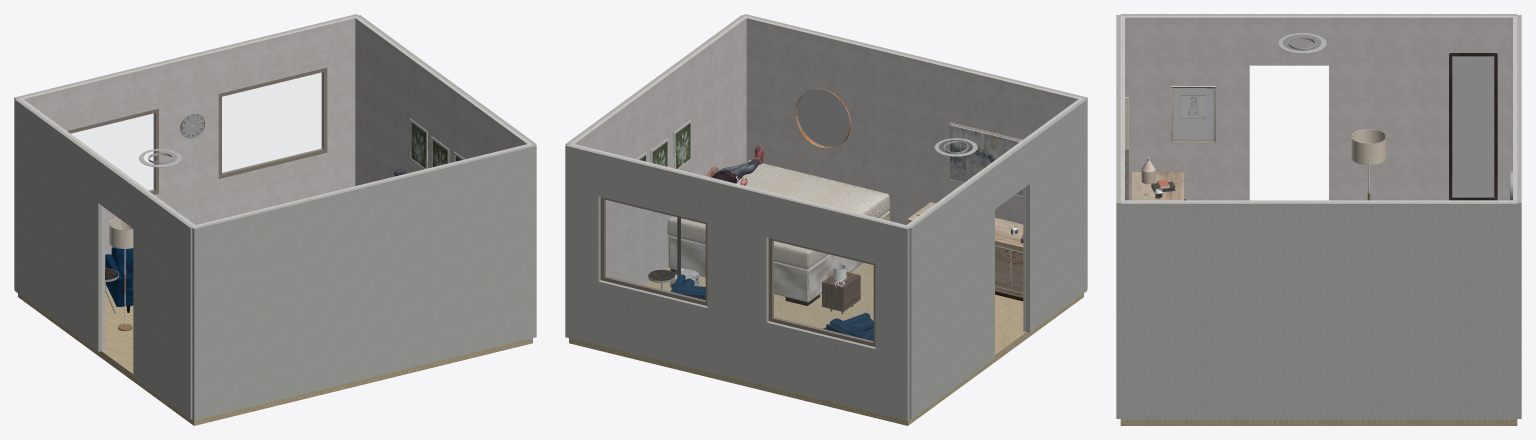
3 renders of one model, left to right at view 1: azimuth 30°, elevation 25°; view 2: azimuth 150°, elevation 25°; view 3: azimuth 270°, elevation 25°, orthographic. The views are drawn at different scales.
Visible parts, largest first — view 1: world (×12), glass (×2), room_geometry_bedroom__v0, frame (×2); view 2: world (×15), glass (×2), room_geometry_bedroom__v0, frame (×2), P_c09130942137e3b0.001; view 3: world (×14), room_geometry_bedroom__v0.
Boxes of the visible parts, x1,y1,x2,y2 form: world (×12): [14, 14, 536, 420]; glass (×2): [72, 73, 322, 190]; room_geometry_bedroom__v0: [18, 285, 532, 425]; frame (×2): [67, 67, 327, 194]; world (×15): [565, 14, 1087, 420]; glass (×2): [605, 200, 873, 341]; room_geometry_bedroom__v0: [569, 262, 1083, 425]; frame (×2): [600, 197, 875, 346]; P_c09130942137e3b0.001: [822, 272, 860, 314]; world (×14): [1116, 14, 1521, 419]; room_geometry_bedroom__v0: [1120, 420, 1517, 425].
Size of the model in its own units: 5.1 by 2.8 by 4.6.
Materials: 50 (23 with a texture image).
